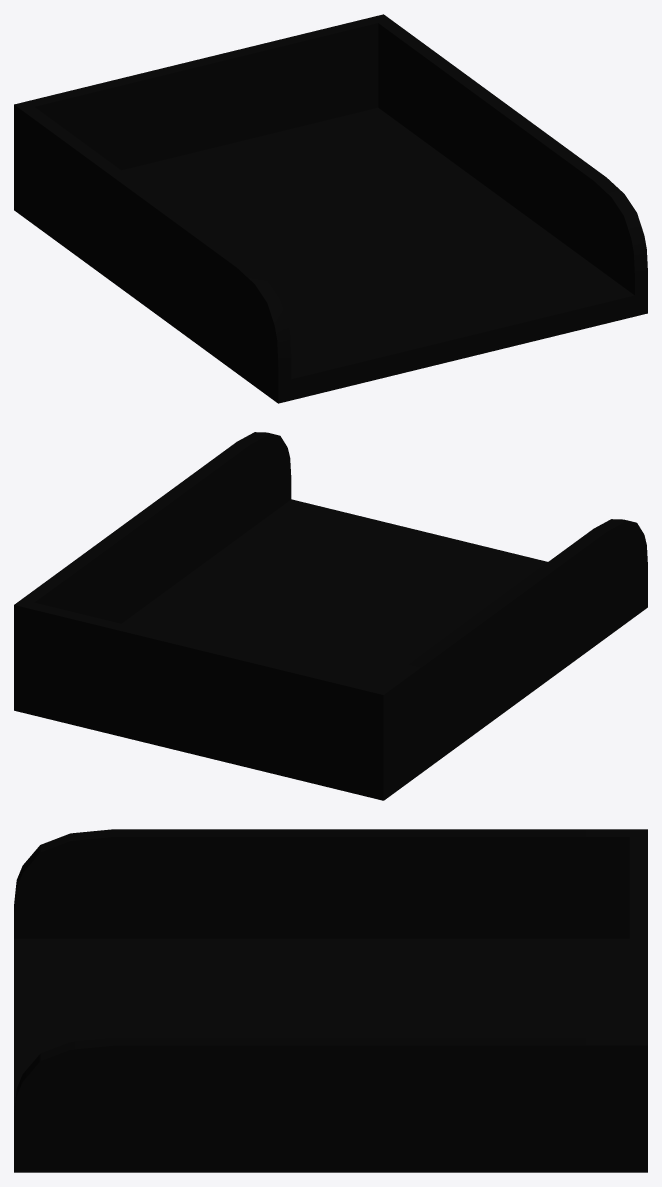
The model's file is Paper Tray.fbx.
The picture shows the model from 3 angles, top to bottom: view 1: azimuth 30°, elevation 25°; view 2: azimuth 150°, elevation 25°; view 3: azimuth 270°, elevation 25°; orthographic projection. The views are drawn at different scales.
Parts seen in each view (by area): view 1: Paper_Tray; view 2: Paper_Tray; view 3: Paper_Tray.
Boxes of the visible parts, left/top/right/bottom form: Paper_Tray: left=14, top=14, right=647, bottom=403; Paper_Tray: left=14, top=432, right=647, bottom=800; Paper_Tray: left=14, top=829, right=647, bottom=1172.
Size of the model in its own units: 1.83 by 0.5 by 2.27.
